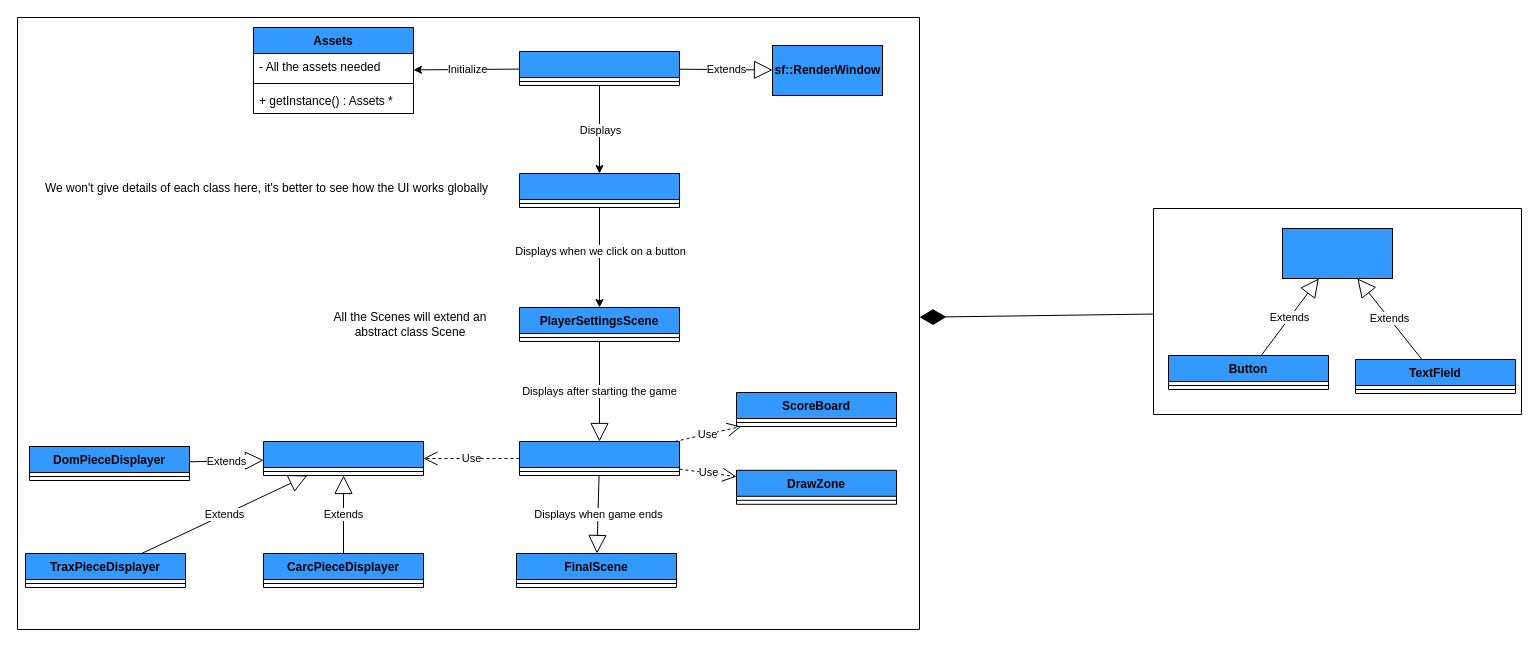
The diagram is 1539 pixels wide and 647 high, and some of its shapes have lost their labels. Each missing label, with the centre of its shape:
App: the point at 599,68
MainMenu: the point at 599,190
MainScene: the point at 599,458
PieceDisplayer: the point at 343,458
sf::Transformable: the point at 1337,253
